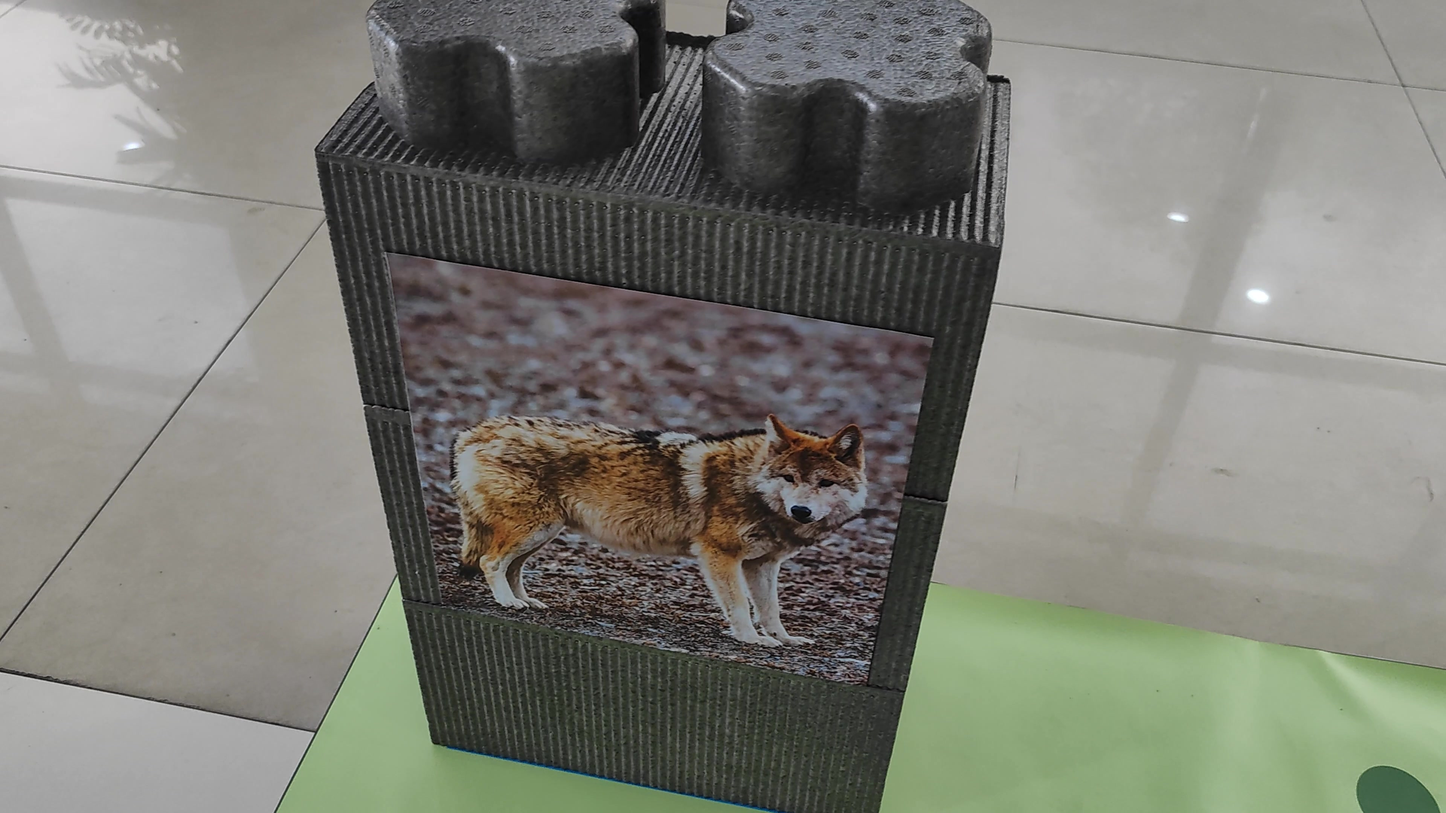wolf: (415, 270, 852, 677)
